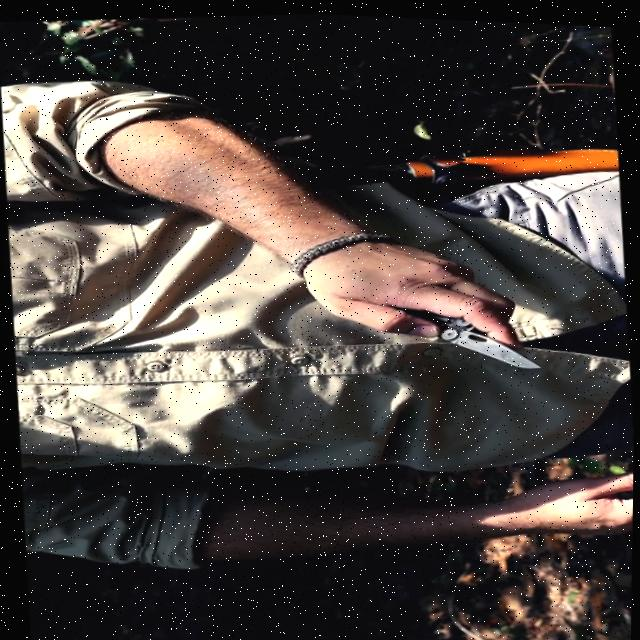knife: (437, 307, 544, 372)
